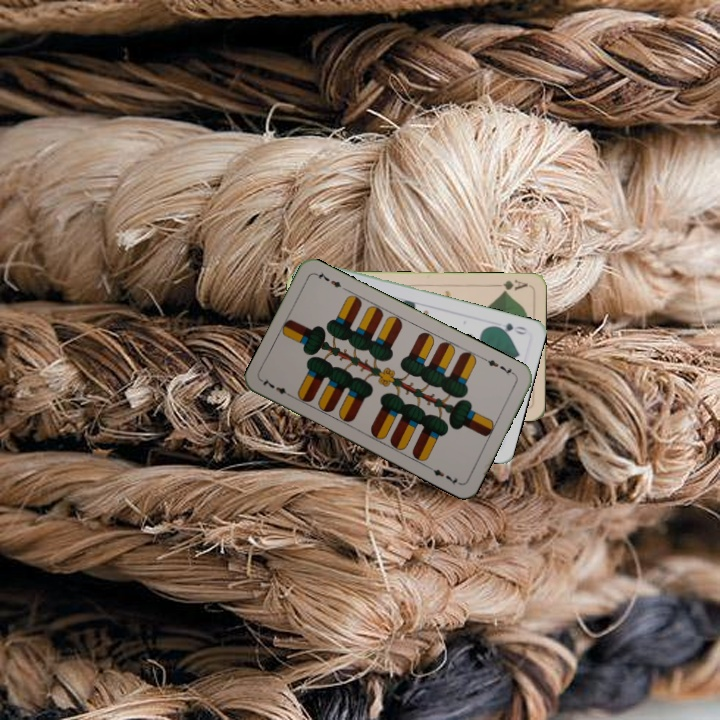E7: (258, 374, 296, 400), (480, 354, 518, 378)
GA: (490, 276, 530, 295)
GO: (489, 319, 529, 337)
